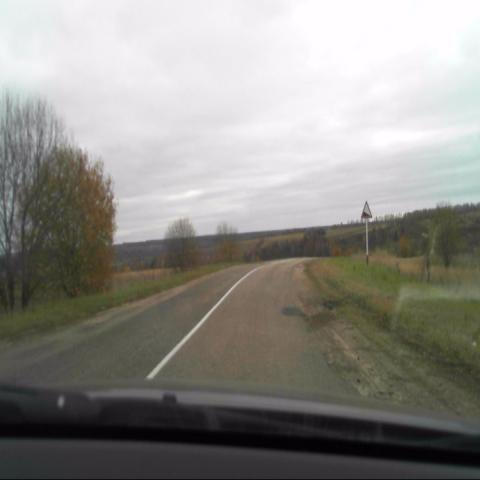1_13: (359, 201, 373, 219)
